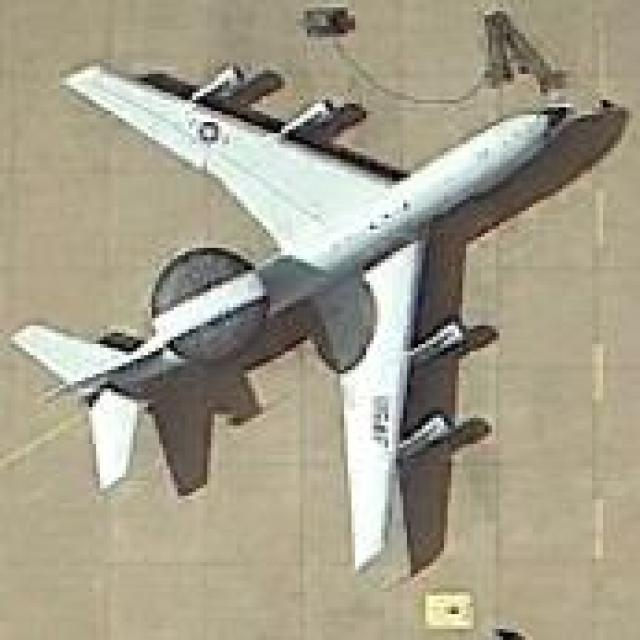E-3_TopDown: (7, 44, 629, 584)
